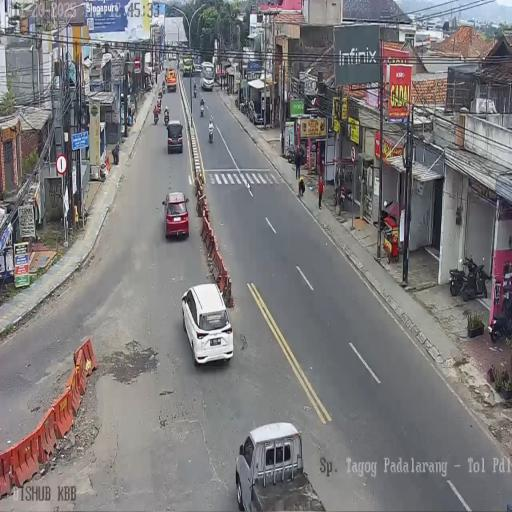3: (201, 61, 215, 91), (182, 55, 194, 78), (144, 52, 152, 75)
car: (236, 420, 324, 510), (182, 282, 235, 366), (163, 190, 190, 240), (167, 120, 184, 154), (166, 68, 177, 93), (194, 63, 202, 73), (170, 52, 176, 60)
truck: (460, 254, 488, 301), (489, 288, 512, 342), (285, 142, 303, 164), (240, 98, 248, 116), (164, 109, 170, 126), (153, 110, 159, 124), (193, 84, 197, 98), (157, 98, 161, 112), (200, 103, 204, 116), (158, 89, 162, 100), (151, 77, 154, 90), (162, 81, 165, 93)
